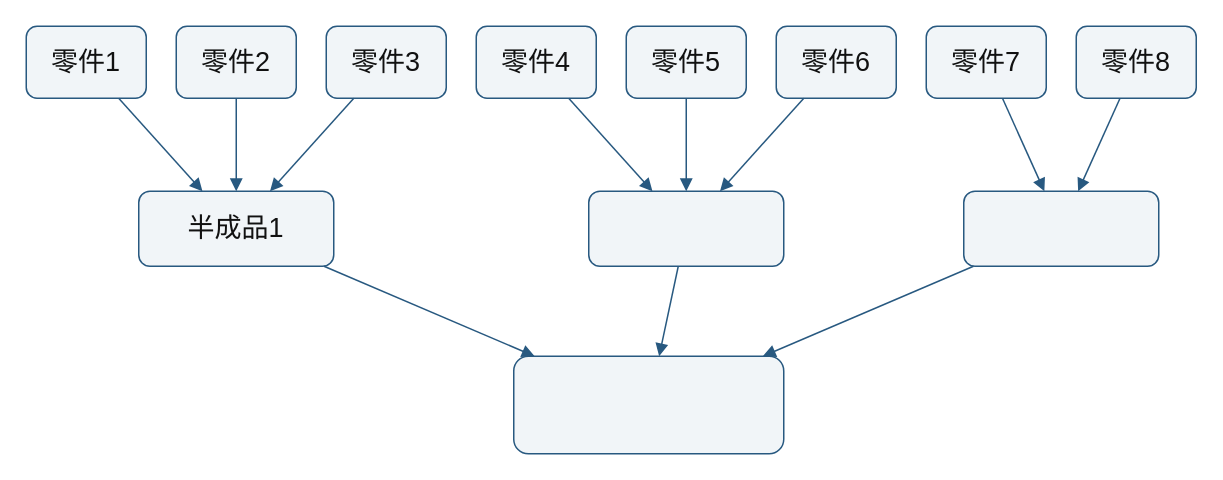
Some shapes in this 1223 by 480 pixel diagram are drawn without their labels. The shapes that lost their labels are listed below. From the top down, each one's centre as x and y in pixels, then its label:
the point at 685,228: 半成品2
the point at 1060,228: 半成品3
the point at 648,404: 成品 最终合格交付
